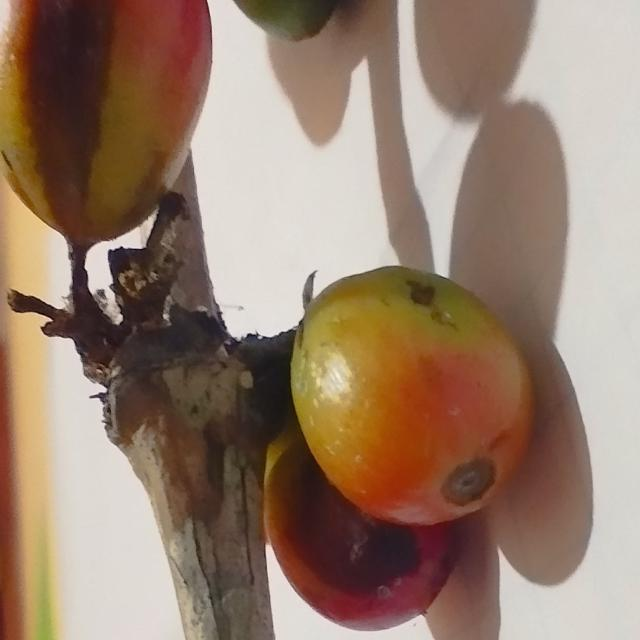Sano: (290, 267, 535, 531), (0, 0, 213, 262)
